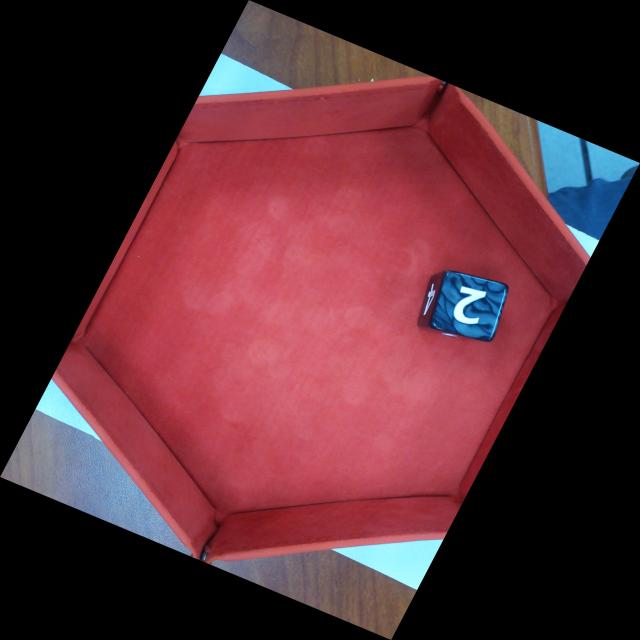dice: (433, 275, 509, 343)
